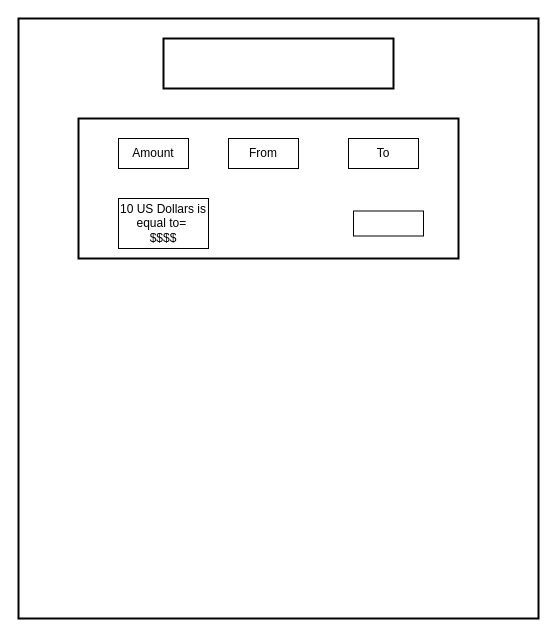
Some shapes in this 556 by 636 pixel diagram are drawn without their labels. Each missing label, with the centre of its shape:
"Click Here!" belongs at point 388,223.
"Welcome to Currencly" belongs at point 278,63.
